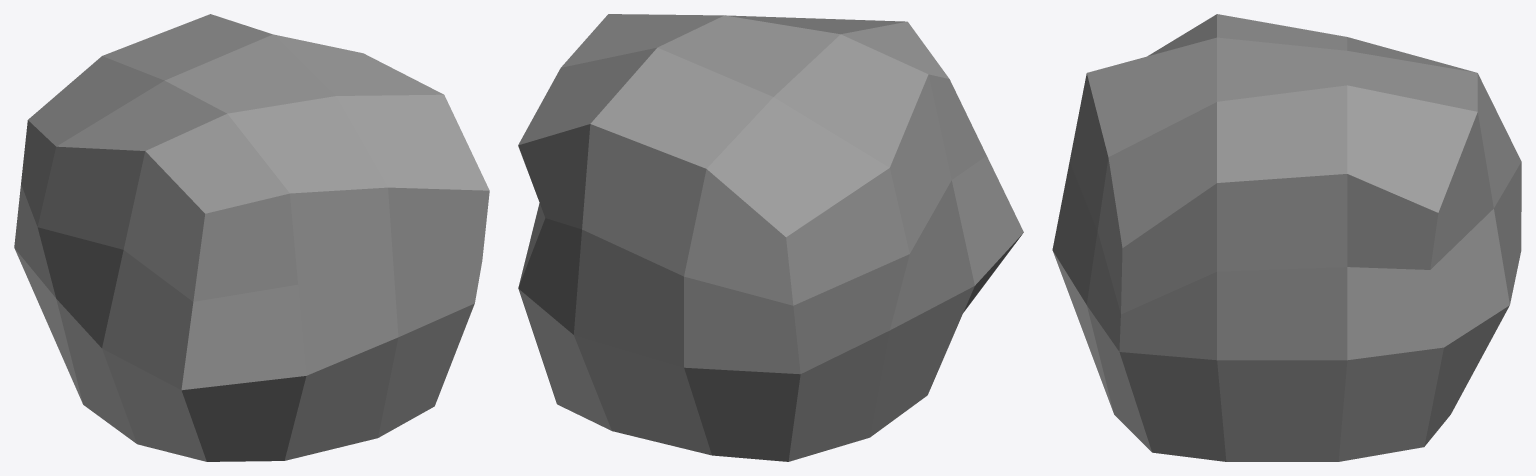
File: Gen_Rock02.fbx
3 views of the same model, side by side, from view 1: azimuth 30°, elevation 25°; view 2: azimuth 150°, elevation 25°; view 3: azimuth 270°, elevation 25° (orthographic). The views are drawn at different scales.
Parts seen in each view (by area): view 1: Gen_Rock02; view 2: Gen_Rock02; view 3: Gen_Rock02.
Part boxes in pixels (box(x1,y1,x2,y2)): Gen_Rock02: box(14, 14, 489, 461); Gen_Rock02: box(518, 14, 1023, 461); Gen_Rock02: box(1052, 14, 1521, 461).
Bounding box in the file's own units: 211 × 188 × 240.
1 material, 1 textured.
